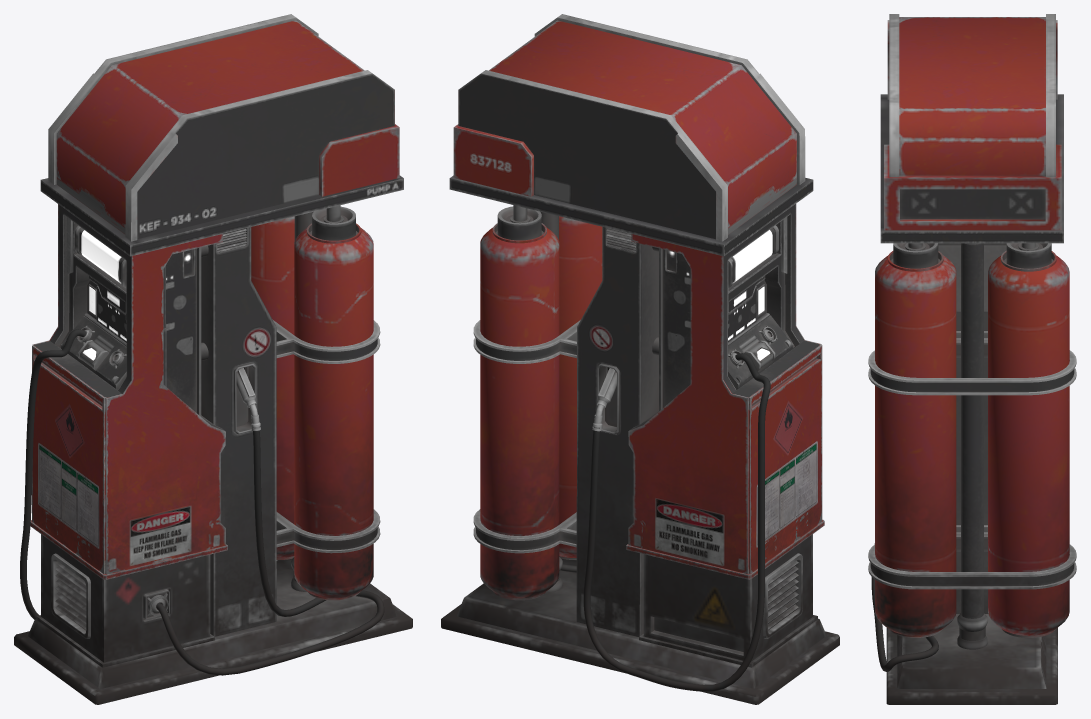
The model's file is gas-station.glb.
3 renders of one model, left to right at view 1: azimuth 30°, elevation 25°; view 2: azimuth 150°, elevation 25°; view 3: azimuth 270°, elevation 25°, orthographic. The views are drawn at different scales.
Visible parts, largest first — view 1: Crate_17_low, Crate_14_low, RightBarrel_low, BackPart_low, BoxPart_low, 1_low, LeftBarrel_low, Top_low, Middle_low, BotPart_low, Wire2_low, Wire1_low (+8 smaller); view 2: Crate_17_low, Crate_14_low, LeftBarrel_low, BackPart_low, BoxPart_low, 1_low, RightBarrel_low, BotPart_low, Top_low, Wire1_low, Middle_low, Panel_low (+7 smaller); view 3: Crate_17_low, RightBarrel_low, LeftBarrel_low, MainPipe_low, 1_low, Crate_34_low, Crate_33_low, Top_low, BotPart_low, BackPart_low, Wire2_low, LeftBarrelConnector_low (+1 smaller).
Part boxes in pixels (left/top/right/bottom): Crate_17_low: left=48, top=14, right=399, bottom=241; Crate_14_low: left=30, top=204, right=227, bottom=579; RightBarrel_low: left=294, top=223, right=373, bottom=600; BackPart_low: left=201, top=227, right=276, bottom=636; BoxPart_low: left=36, top=534, right=214, bottom=667; 1_low: left=28, top=559, right=397, bottom=688; LeftBarrel_low: left=251, top=216, right=294, bottom=559; Top_low: left=40, top=175, right=403, bottom=256; Middle_low: left=163, top=247, right=201, bottom=416; BotPart_low: left=14, top=604, right=412, bottom=704; Wire2_low: left=156, top=430, right=384, bottom=675; Wire1_low: left=20, top=329, right=86, bottom=619; Crate_17_low: left=453, top=14, right=805, bottom=241; Crate_14_low: left=626, top=204, right=824, bottom=579; LeftBarrel_low: left=480, top=223, right=559, bottom=600; BackPart_low: left=576, top=227, right=658, bottom=636; BoxPart_low: left=639, top=534, right=817, bottom=667; 1_low: left=457, top=558, right=826, bottom=688; RightBarrel_low: left=559, top=216, right=602, bottom=559; BotPart_low: left=441, top=604, right=839, bottom=704; Top_low: left=449, top=175, right=813, bottom=256; Wire1_low: left=583, top=353, right=770, bottom=691; Middle_low: left=659, top=248, right=690, bottom=410; Panel_low: left=728, top=313, right=793, bottom=389; Crate_17_low: left=884, top=14, right=1061, bottom=230; RightBarrel_low: left=875, top=251, right=956, bottom=637; LeftBarrel_low: left=988, top=250, right=1069, bottom=637; MainPipe_low: left=957, top=243, right=987, bottom=649; 1_low: left=897, top=614, right=1046, bottom=688; Crate_34_low: left=868, top=525, right=1076, bottom=589; Crate_33_low: left=868, top=331, right=1076, bottom=395; Top_low: left=880, top=94, right=1063, bottom=243; BotPart_low: left=886, top=627, right=1057, bottom=704; BackPart_low: left=938, top=243, right=1006, bottom=613; Wire2_low: left=871, top=543, right=938, bottom=671; LeftBarrelConnector_low: left=1006, top=243, right=1051, bottom=268.
Size of the model in its own units: 1.48 by 2.5 by 0.8177.
1 material, 1 textured.
